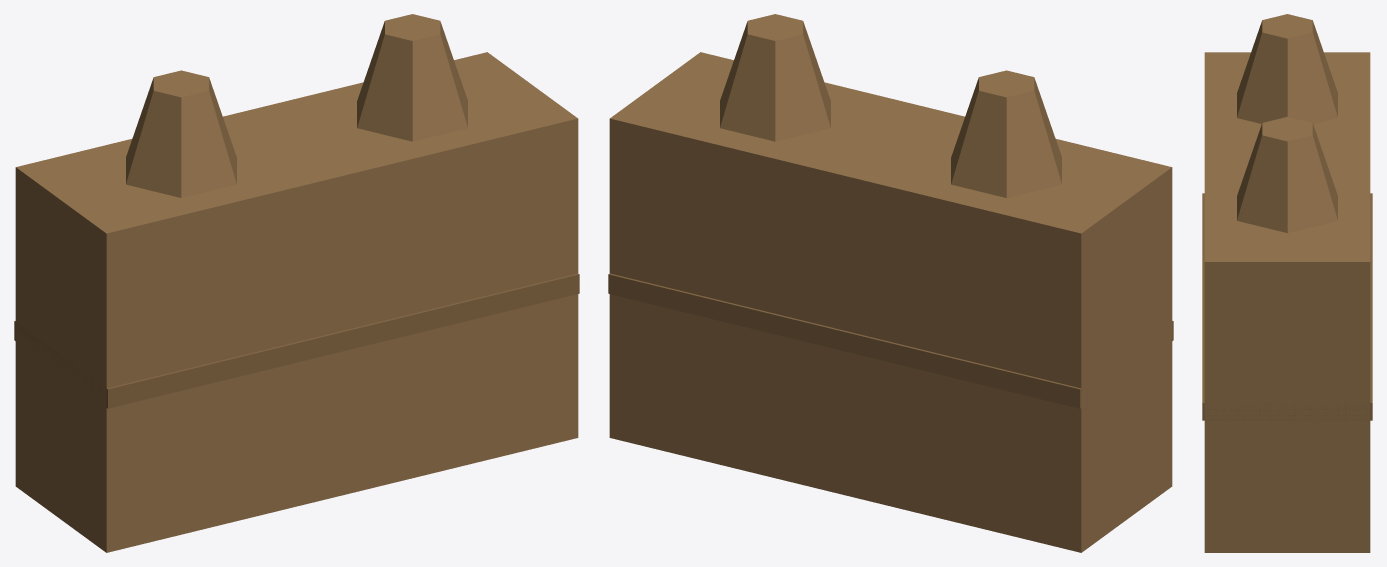
The model's file is wall_t1_seg.glb.
The picture shows the model from 3 angles, left to right: view 1: azimuth 30°, elevation 25°; view 2: azimuth 150°, elevation 25°; view 3: azimuth 270°, elevation 25°; orthographic projection. The views are drawn at different scales.
Visible parts, largest first — view 1: body; view 2: body; view 3: body.
Boxes of the visible parts, box(x1,y1,x2,y2) form: body: box(14, 14, 579, 552); body: box(608, 14, 1173, 552); body: box(1202, 14, 1372, 552).
Size of the model in its own units: 1.02 by 0.84 by 0.35.
